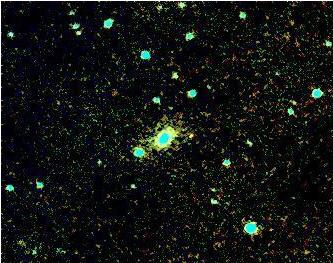star: (177, 120, 207, 150)
